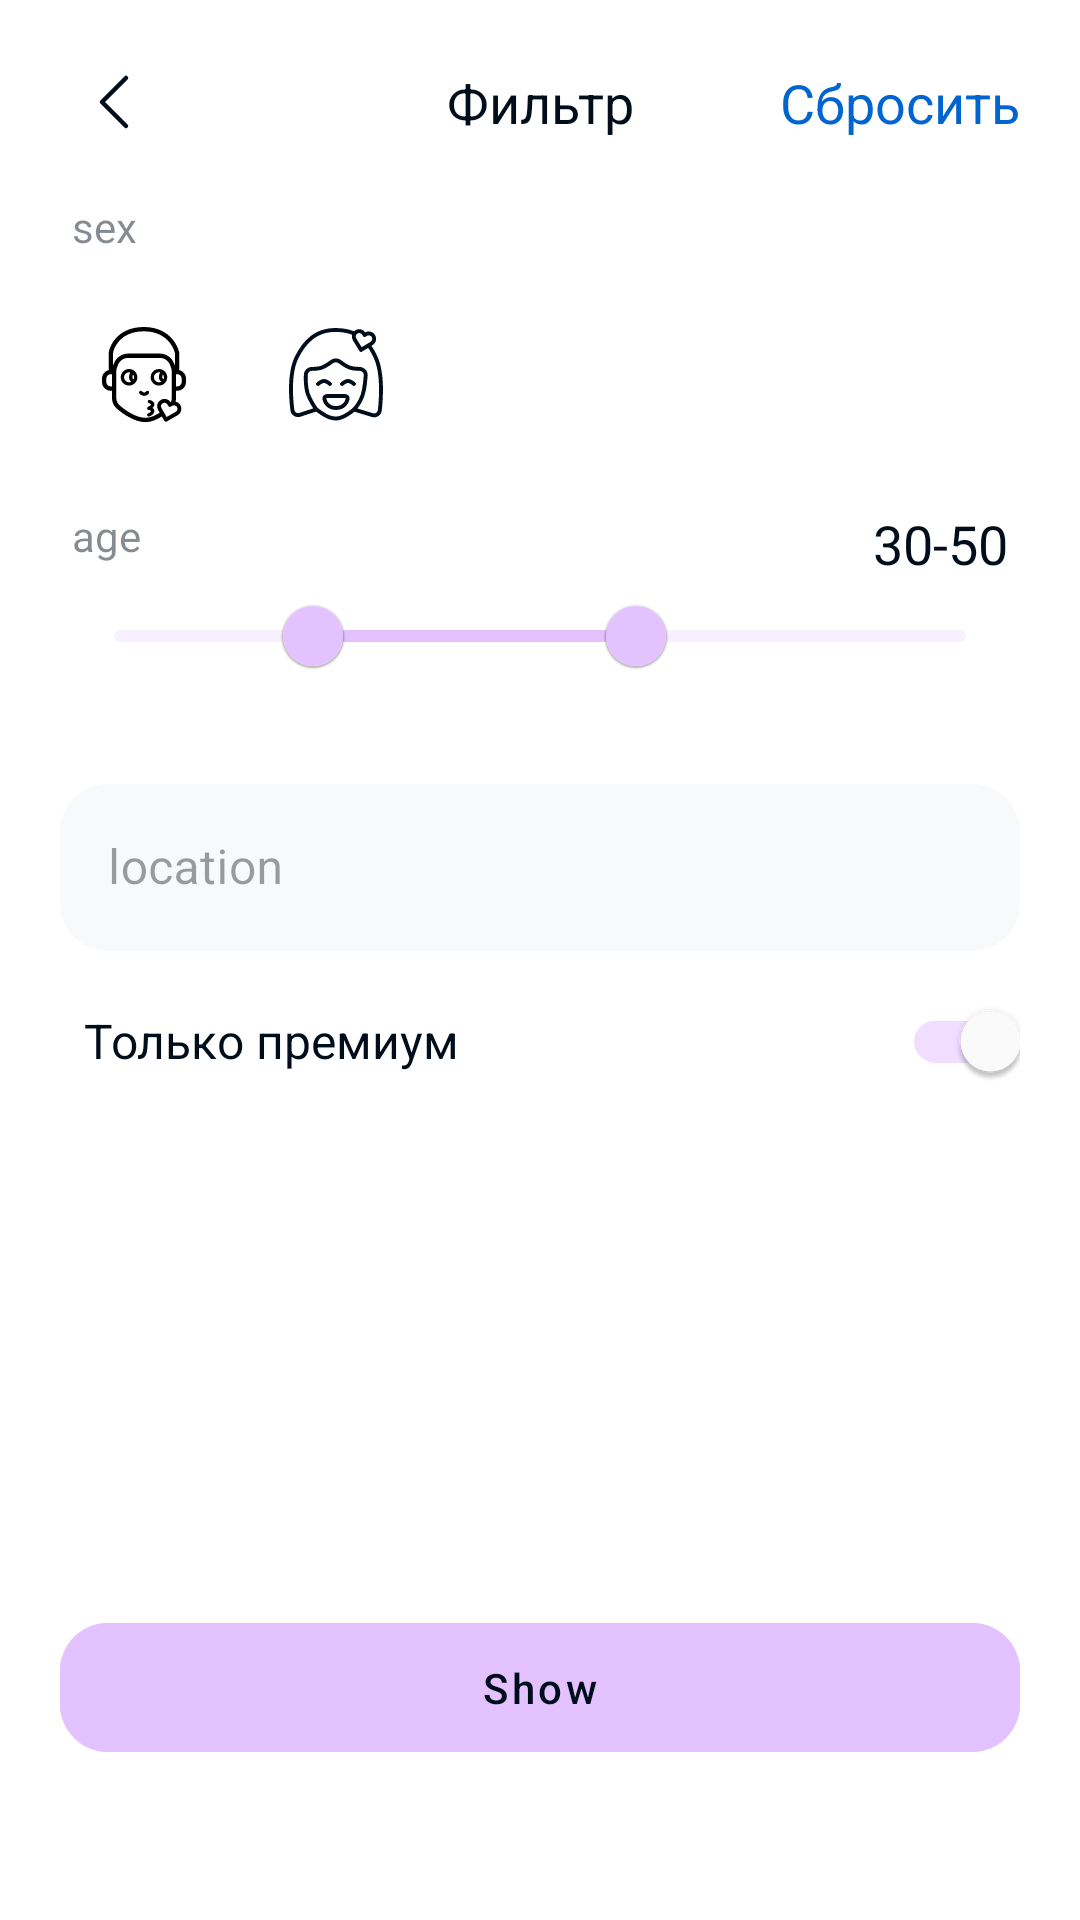

Named icons in this screenshot (1080*1920) and their bounding boxes, bbox=(x1, y1, x2, y2):
chevron left: bbox=(99, 75, 129, 129)
man: bbox=(102, 327, 186, 423)
woman: bbox=(289, 328, 383, 421)
